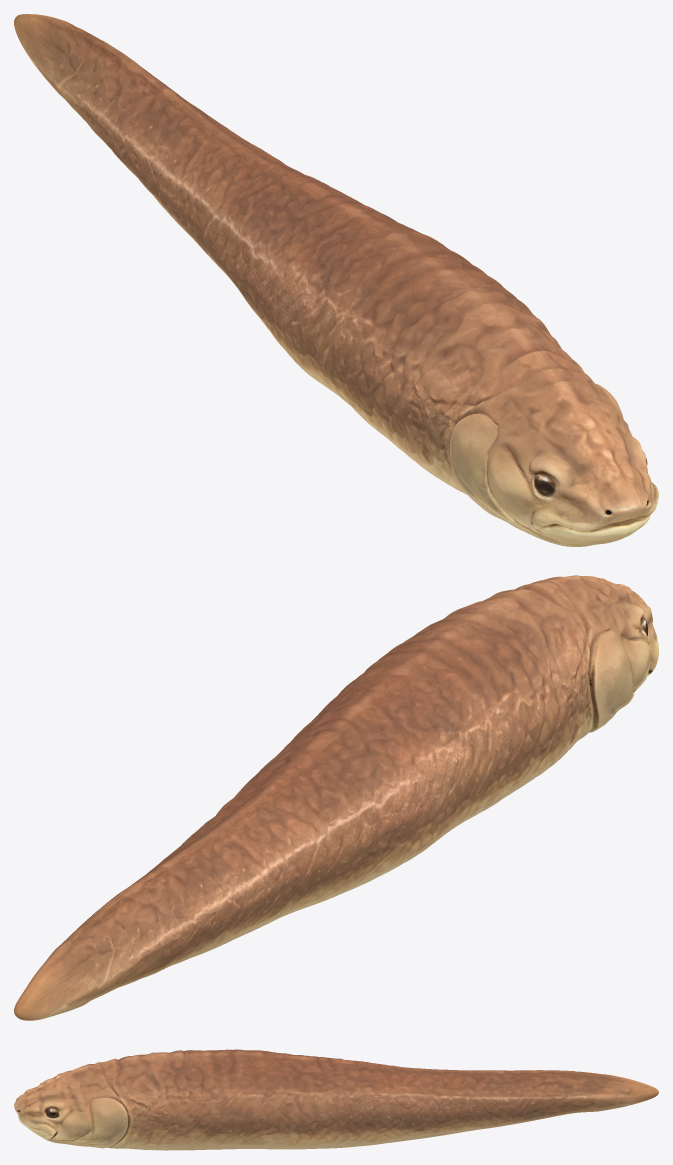
The model's file is fish-lod.glb.
The picture shows the model from 3 angles, top to bottom: view 1: azimuth 30°, elevation 25°; view 2: azimuth 150°, elevation 25°; view 3: azimuth 270°, elevation 25°; orthographic projection. The views are drawn at different scales.
Visible parts, largest first — view 1: model; view 2: model; view 3: model.
Part boxes in pixels (bbox=[...]): model: bbox=[14, 14, 658, 546]; model: bbox=[14, 575, 658, 1020]; model: bbox=[14, 1049, 658, 1150].
Size of the model in its own units: 0.2838 by 0.2969 by 1.9.
1 material, 1 textured.
